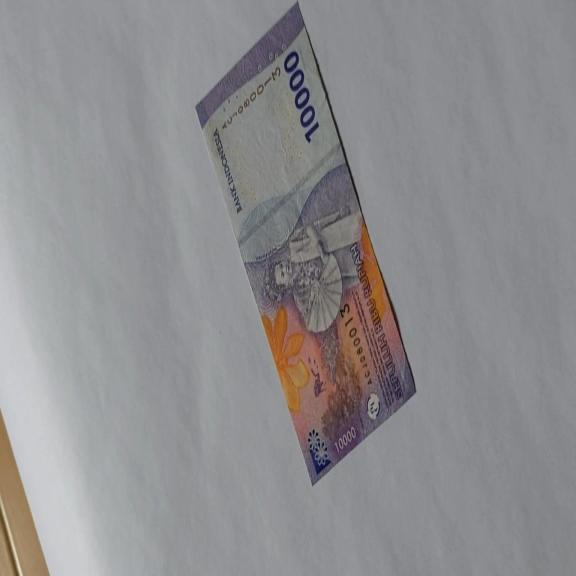Kertas: (194, 2, 417, 487)
